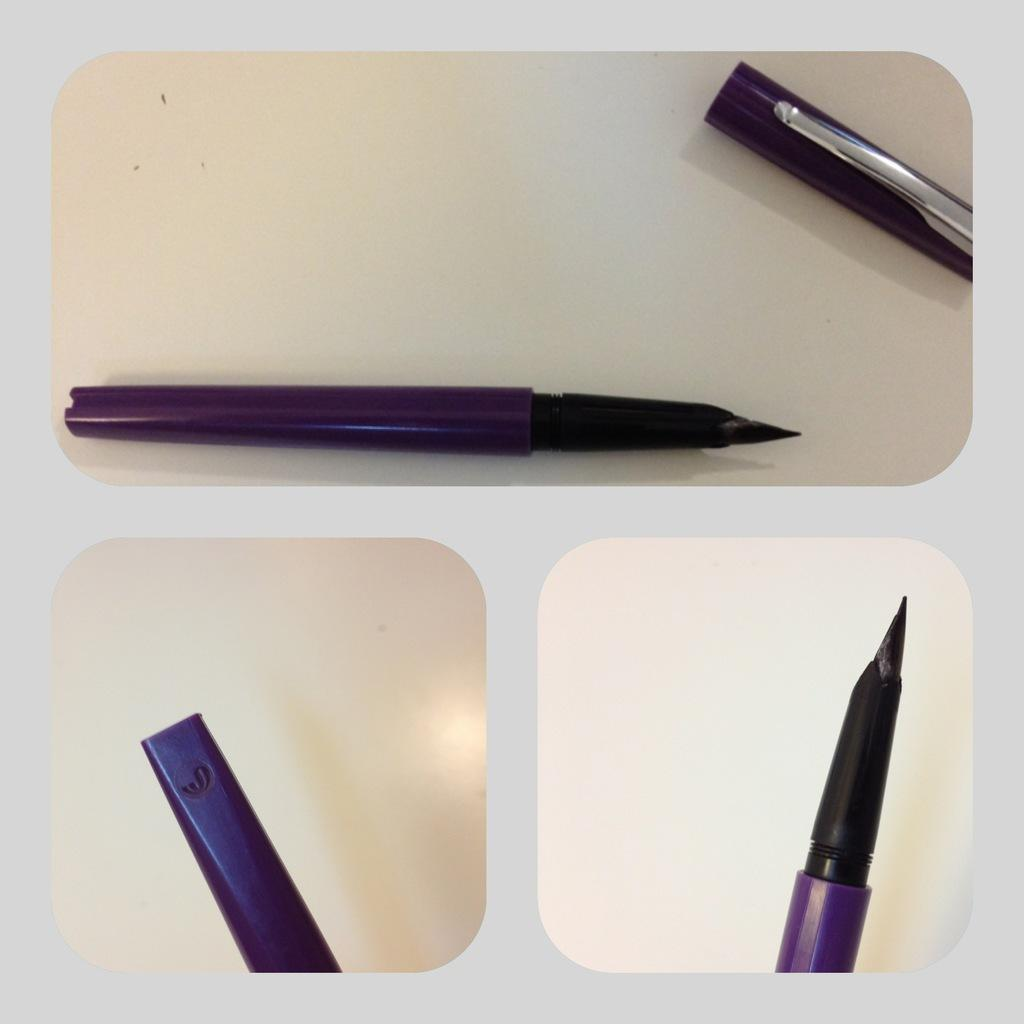pen: (698, 55, 977, 294), (58, 368, 802, 454), (137, 707, 352, 975), (776, 590, 912, 970)
